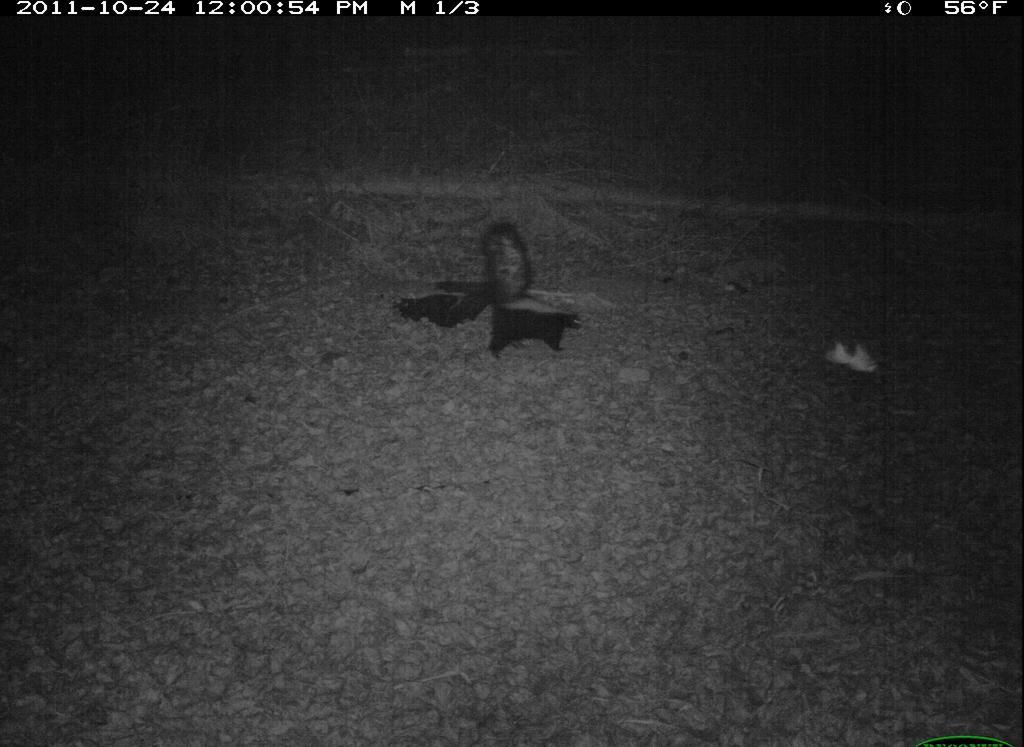skunk: (470, 214, 596, 383)
